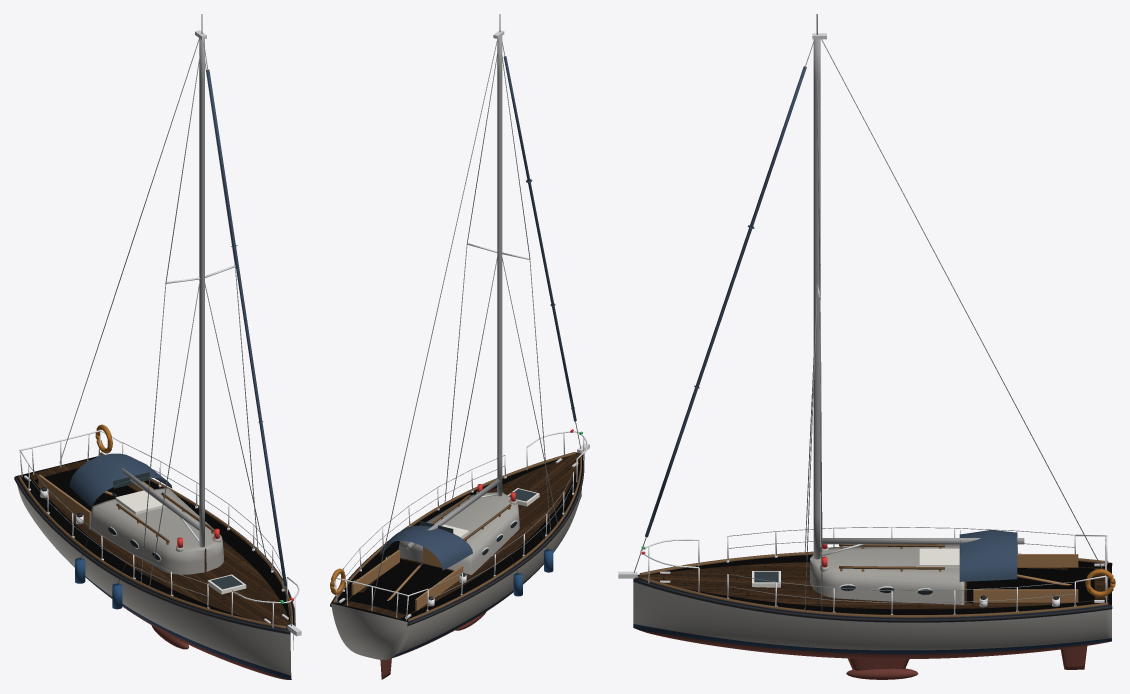
Rendered from sloop.glb.
3 renders of one model, left to right at view 1: azimuth 30°, elevation 25°; view 2: azimuth 150°, elevation 25°; view 3: azimuth 270°, elevation 25°, orthographic. The views are drawn at different scales.
Parts seen in each view (by area): view 1: Hull, CabinTrunk, Deck, WaterMask, Mast, SprayHood, FurledJib, Rubrail.001, ToeRail.001, Coaming.001, SlidingHatch, Backstay (+4 smaller); view 2: Hull, WaterMask, Deck, CabinTrunk, Mast, SprayHood, FurledJib, Rubrail.001, Backstay, ToeRail.001, ToeRail, Coaming (+2 smaller); view 3: Hull, CabinTrunk, Deck, WaterMask, Mast, SprayHood, FurledJib, Rubrail, ToeRail, Coaming, Boom, Backstay (+3 smaller).
Boxes of the visible parts, x1,y1,x2,y2 form: Hull: (15, 476, 293, 679); CabinTrunk: (89, 487, 223, 574); Deck: (29, 460, 290, 628); WaterMask: (16, 456, 294, 624); Mast: (199, 38, 204, 547); SprayHood: (69, 453, 172, 508); FurledJib: (206, 69, 286, 586); Rubrail.001: (14, 476, 289, 633); ToeRail.001: (17, 475, 286, 628); Coaming.001: (38, 474, 90, 524); SlidingHatch: (115, 490, 166, 514); Backstay: (59, 38, 199, 463); Hull: (331, 473, 582, 659); WaterMask: (332, 452, 582, 621); Deck: (343, 452, 579, 618); CabinTrunk: (398, 492, 519, 574); Mast: (497, 36, 502, 496); SprayHood: (380, 525, 472, 570); FurledJib: (503, 56, 576, 421); Rubrail.001: (407, 454, 584, 625); Backstay: (371, 39, 497, 608); ToeRail.001: (407, 453, 581, 621); ToeRail: (333, 452, 575, 603); Coaming: (351, 550, 399, 595); Hull: (633, 577, 1111, 659); CabinTrunk: (810, 544, 964, 604); Deck: (637, 562, 1108, 609); WaterMask: (638, 554, 1111, 618); Mast: (813, 39, 820, 559); SprayHood: (959, 530, 1017, 581); FurledJib: (645, 66, 806, 537); Rubrail: (633, 578, 1112, 622); ToeRail: (639, 576, 1108, 617); Coaming: (973, 589, 1078, 602); Boom: (822, 538, 1024, 544); Backstay: (821, 39, 1108, 579).
Bounding box in the file's own units: 3.54 × 15.2 × 10.3.
Materials: 19 (1 with a texture image).
